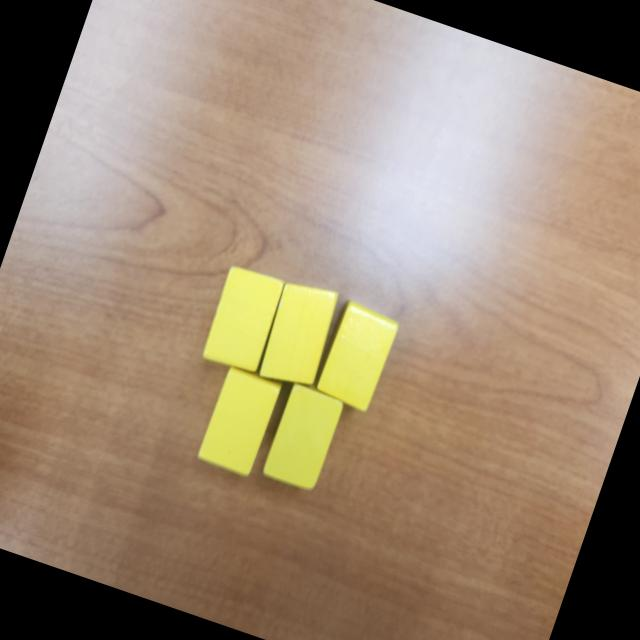yellow: (310, 299, 402, 414), (194, 363, 284, 479), (254, 276, 342, 392), (199, 264, 288, 376), (260, 380, 347, 492)
